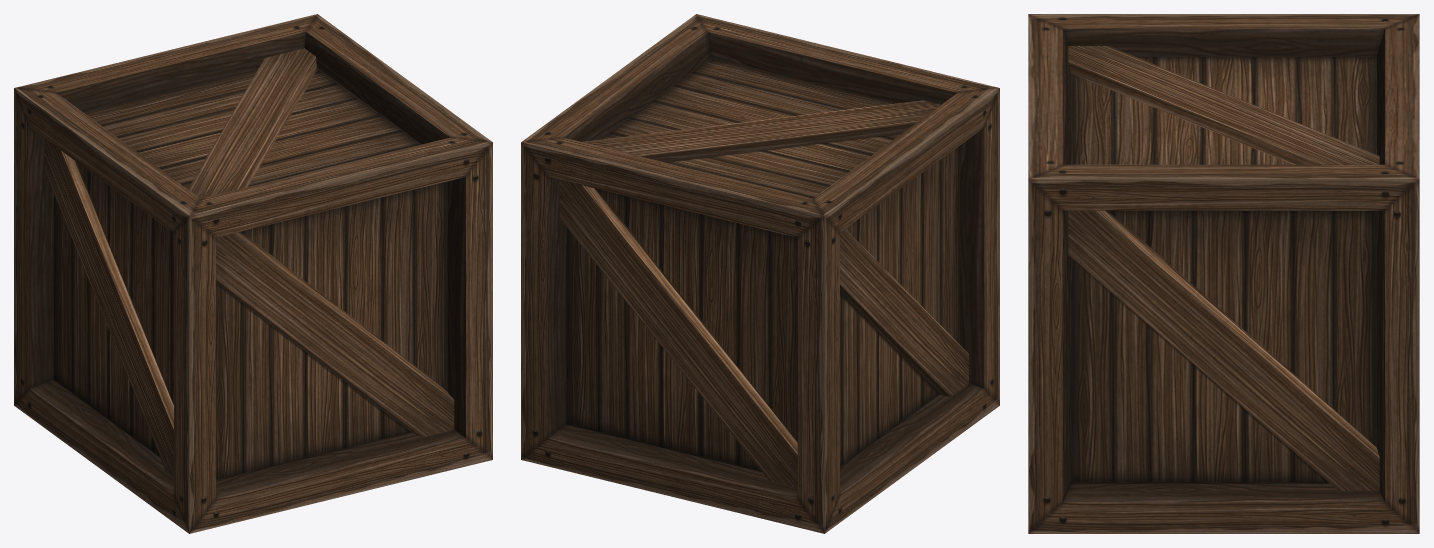
File: Crate.obj
3 views of the same model, side by side, from view 1: azimuth 30°, elevation 25°; view 2: azimuth 150°, elevation 25°; view 3: azimuth 270°, elevation 25° (orthographic). The views are drawn at different scales.
Parts seen in each view (by area): view 1: Default_Layer; view 2: Default_Layer; view 3: Default_Layer.
Boxes of the visible parts, <box> form: Default_Layer: <box>14,14,492,533</box>; Default_Layer: <box>521,14,999,533</box>; Default_Layer: <box>1028,14,1419,533</box>.
Size of the model in its own units: 1.5 by 1.5 by 1.5.
